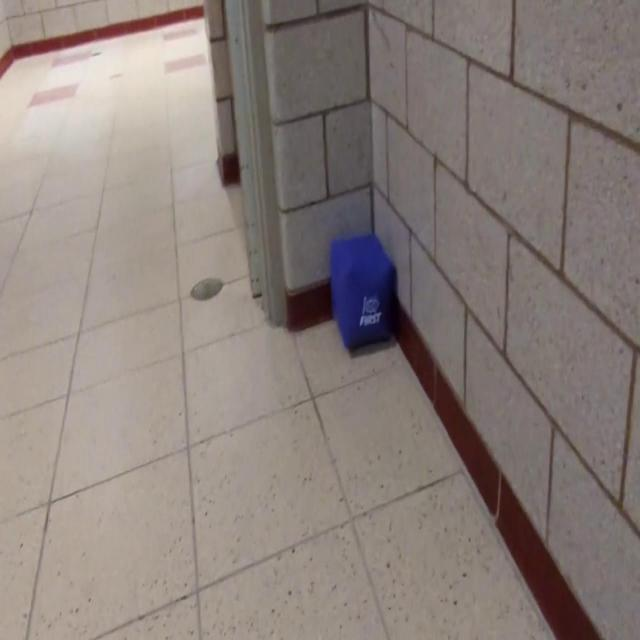frc_cube: (330, 235, 392, 354)
